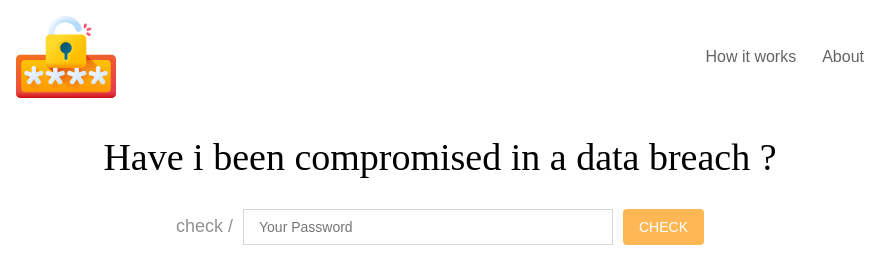
Test case: Header › "About" link points to the correct page
The width and height of the screenshot is (883, 262).
What coordinates should you click on to do the following:
click the link "About"
I would click on:
 (843, 57)
Its box is [822,48,864,66].
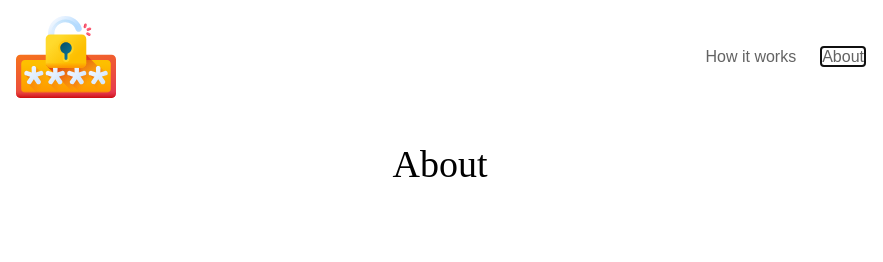
Expected: the heading "About" is shown, [392,144,488,186]
